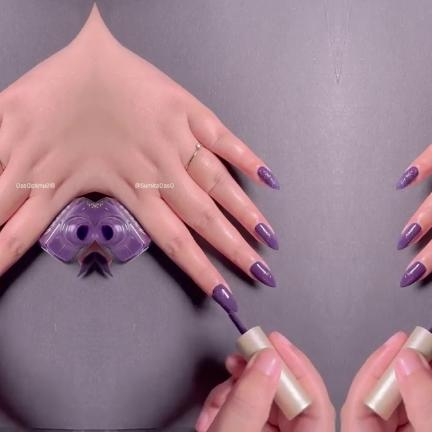Nail: (248, 262, 276, 288), (211, 284, 237, 312), (398, 262, 426, 288), (253, 223, 278, 250), (396, 223, 421, 250), (256, 166, 279, 190), (395, 166, 418, 190), (94, 252, 113, 278), (75, 252, 94, 278)
